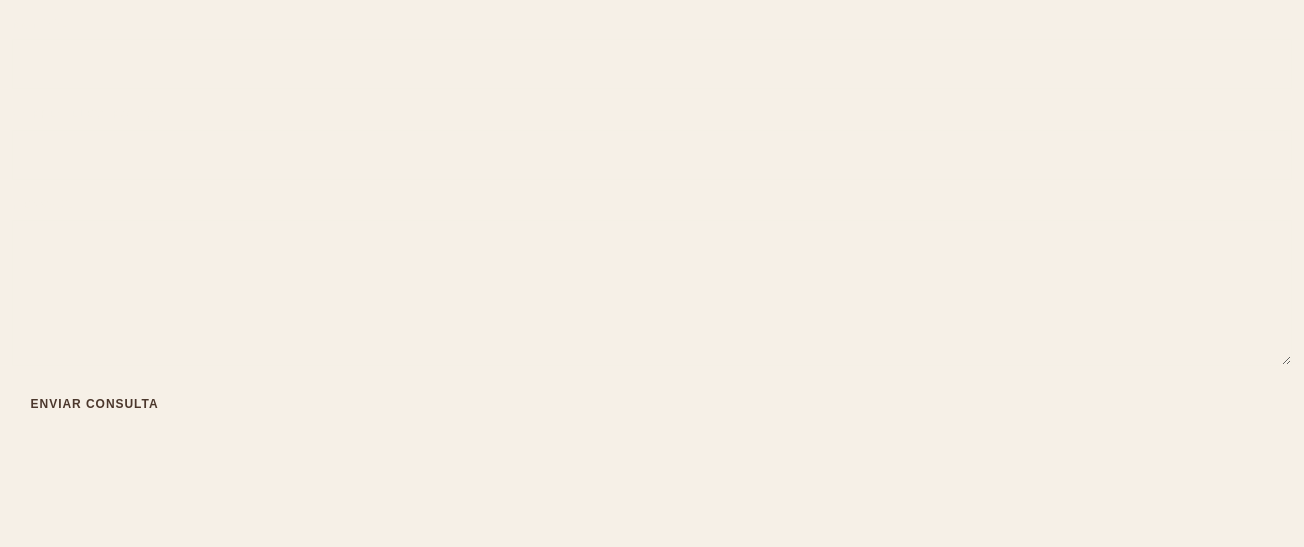
Test case: shows errors for an empty submission
Click the button "Enviar consulta".
click(95, 404)  # box [12,382,177,426]
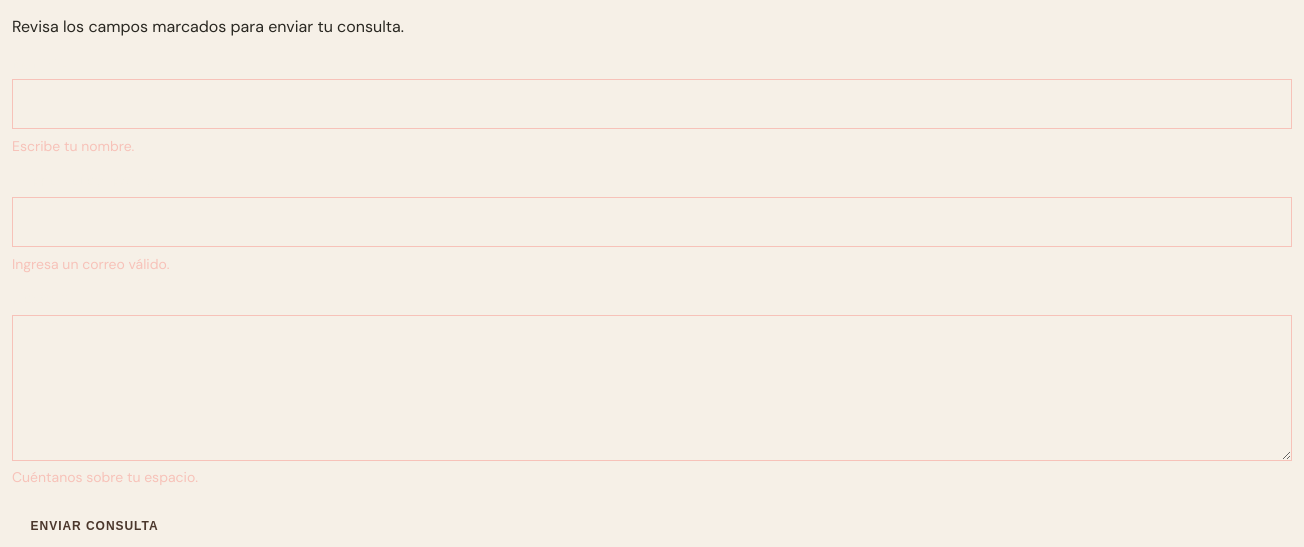
Expected: the text "Escribe tu nombre." is shown, [12,137,134,155]
Expected: the text "Ingresa un correo válido." is shown, [12,255,170,273]
Expected: the text "Cuéntanos sobre tu espacio." is shown, [12,468,198,486]
